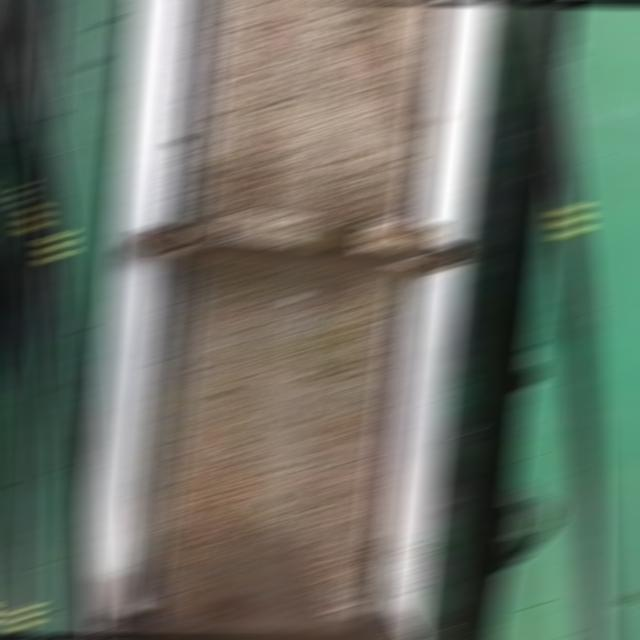yellow: (550, 208, 588, 235), (13, 206, 47, 231), (5, 606, 36, 632), (38, 237, 68, 258)
